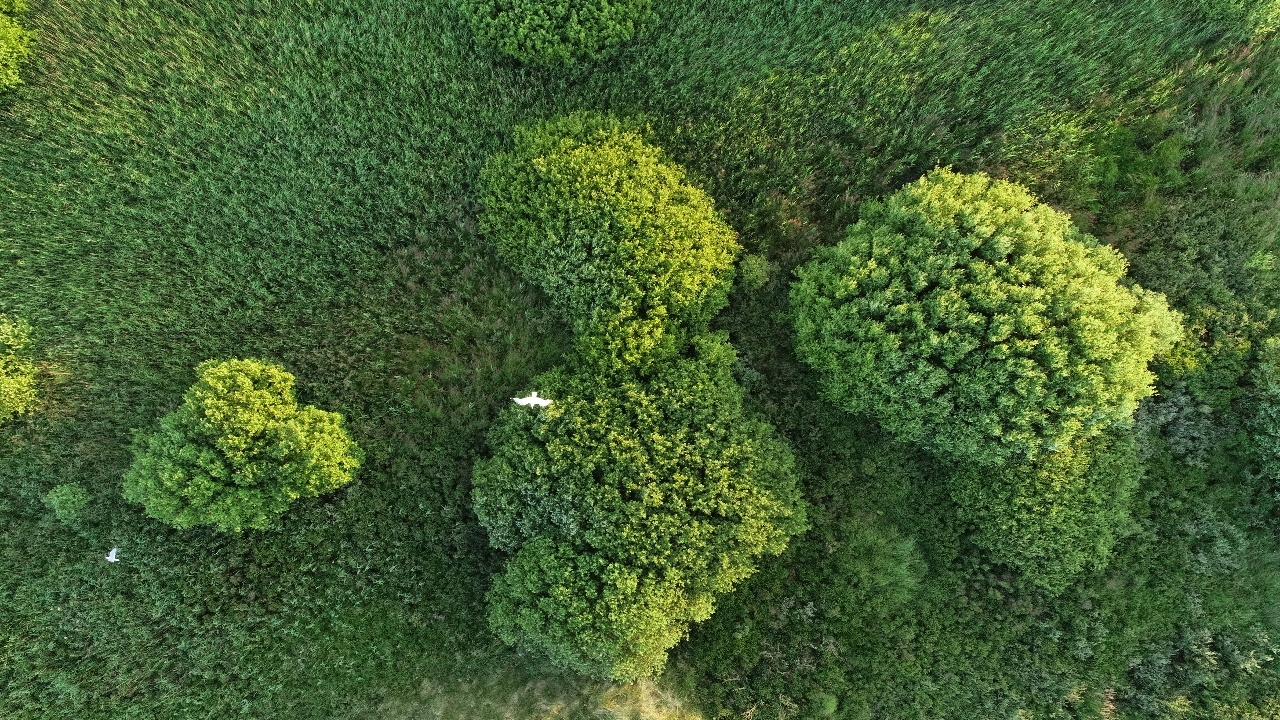Bird: (509, 385, 555, 416), (95, 539, 131, 570)
